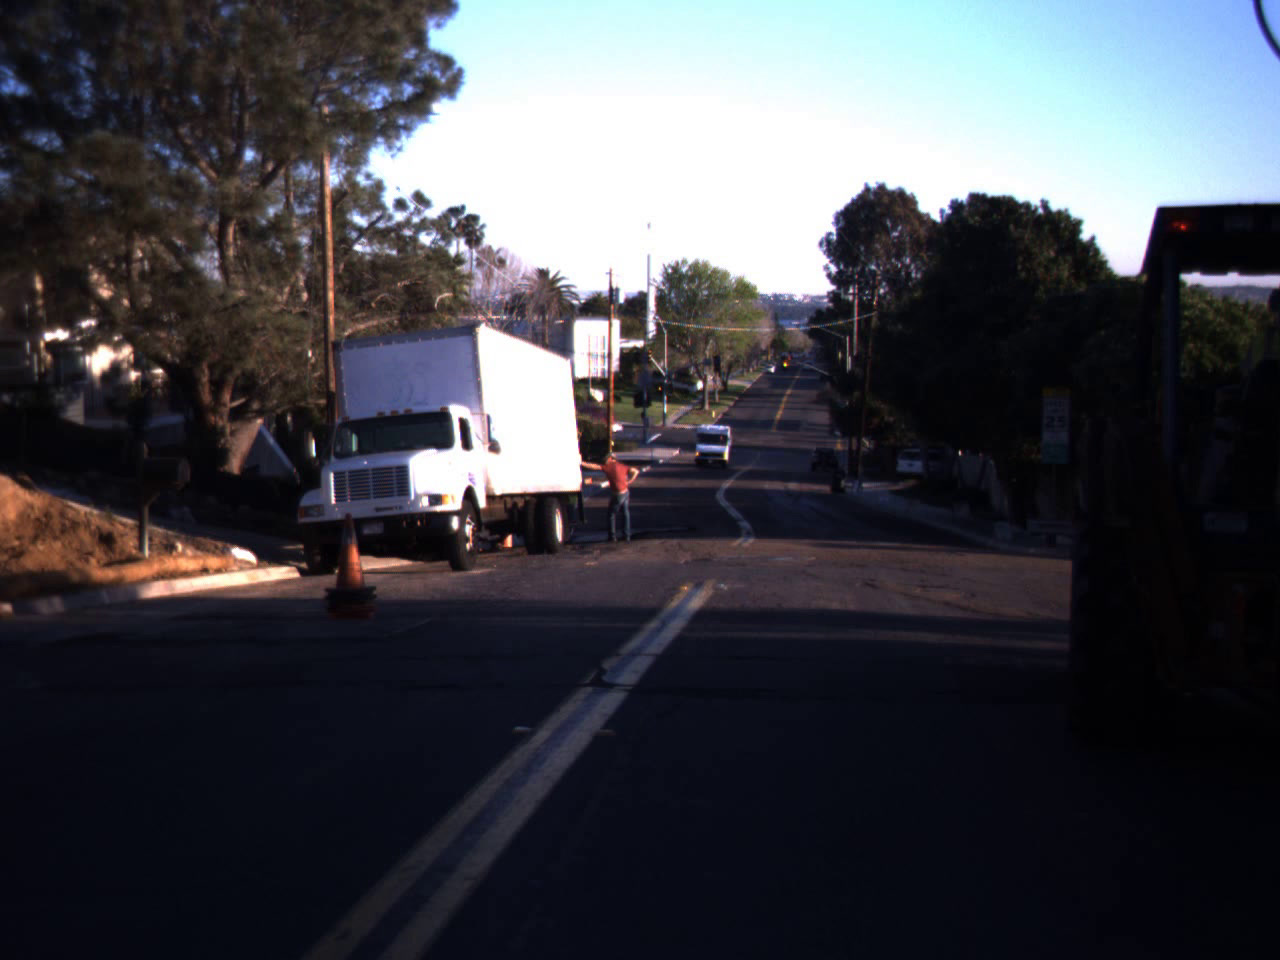warning: (779, 354, 794, 372)
